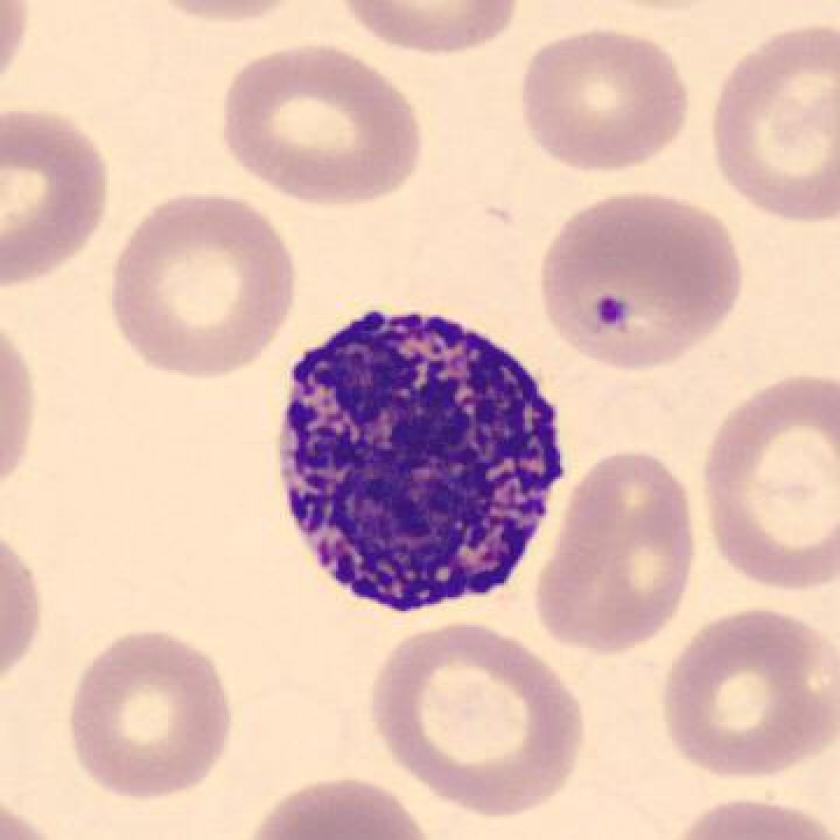basophil: (276, 304, 552, 621)
